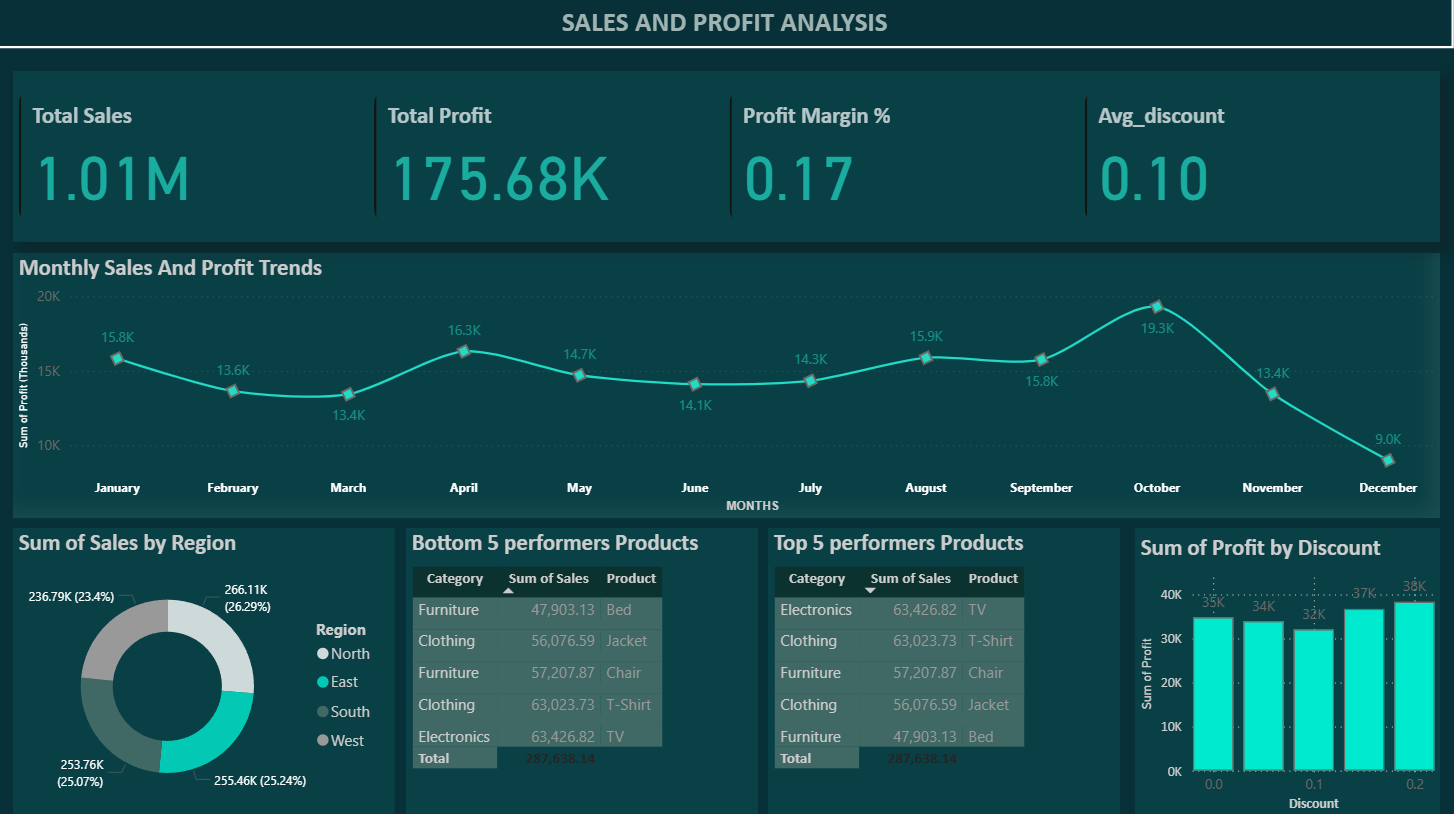

What the dashboard file says about the page in this screenshot:
{"tool":"powerbi","page":{"name":"Page 1","canvas":[1280,720],"ordinal":0},"visuals":[{"type":"lineChart","title":"Monthly Sales And Profit Trends","fields":{"Category":["RetailSales_1000.OrderDate.Variation.Date Hierarchy.Month"],"Y":["Sum(RetailSales_1000.Profit)"]},"box":[15,225,1253,233],"z":0},{"type":"donutChart","fields":{"Category":["RetailSales_1000.Region"],"Y":["Sum(RetailSales_1000.Sales)"]},"box":[15,466,335,254],"z":1000},{"type":"tableEx","title":"Bottom 5 performers Products","fields":{"Values":["RetailSales_1000.Category","Sum(RetailSales_1000.Sales)","RetailSales_1000.Product"]},"box":[360,466,309,254],"z":2000},{"type":"columnChart","fields":{"Category":["RetailSales_1000.Discount"],"Y":["Sum(RetailSales_1000.Profit)"]},"box":[1000,466,268,254],"z":3000},{"type":"textbox","title":"cafdsfasdas","box":[0,0,1280,45.1],"z":4000},{"type":"tableEx","title":"Top 5 performers Products","fields":{"Values":["RetailSales_1000.Category","Sum(RetailSales_1000.Sales)","RetailSales_1000.Product"]},"box":[678,466,309,254],"z":5000},{"type":"cardVisual","fields":{"Data":["RetailSales_1000.Total Sales","RetailSales_1000.Total Profit","RetailSales_1000.Profit Margin %","RetailSales_1000.Avg_discount"]},"box":[14.9,65,1253,150.1],"z":6000}]}

Visuals, with their boxes in screenshot pixels (x1, y1, x2, y2), scaled from the page's 1280x720 canvas onto the 1454x814 screenshot:
"Monthly Sales And Profit Trends" lineChart: [x1=17, y1=254, x2=1440, y2=518]
donutChart - RetailSales_1000.Region x Sum(RetailSales_1000.Sales): [x1=17, y1=527, x2=398, y2=813]
"Bottom 5 performers Products" tableEx: [x1=409, y1=527, x2=760, y2=813]
columnChart - RetailSales_1000.Discount x Sum(RetailSales_1000.Profit): [x1=1136, y1=527, x2=1440, y2=813]
"cafdsfasdas" textbox: [x1=0, y1=0, x2=1453, y2=51]
"Top 5 performers Products" tableEx: [x1=770, y1=527, x2=1121, y2=813]
cardVisual - RetailSales_1000.Total Sales x RetailSales_1000.Total Profit: [x1=17, y1=73, x2=1440, y2=243]
